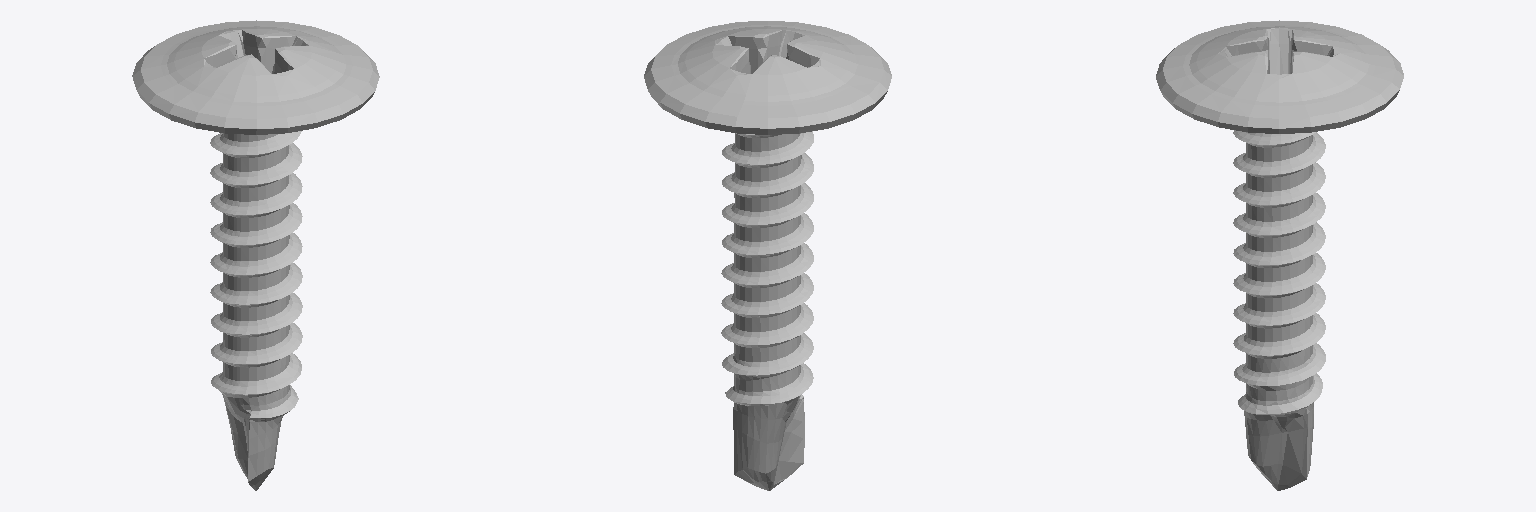
URDF robot description (apple):
<?xml version="1.0" encoding="utf-8"?>
<robot name="apple">
  <link name="base_link">
    <contact>
      <lateral_friction value="0.5"/>
      <rolling_friction value="0.0"/>
      <contact_cfm value="0.0"/>
      <contact_erp value="1.0"/>
    </contact>
    <inertial>
      <origin rpy="0 0 0" xyz="0 0 0"/>
      <mass value=".1"/>
      <inertia ixx="0" ixy="0" ixz="0" iyy="0" iyz="0" izz="0"/>
    </inertial>
    <visual>
      <origin rpy="1.57 0 0" xyz="0 0 0"/>
      <geometry>
        <mesh filename="models/meshes/screw/screw.obj" scale="0.002 0.002 0.002"/>
      </geometry>
      <material name="hi3">
        <color rgba="0.76 0.76 0.76 1"/>
      </material>
    </visual>
    <collision>
      <origin rpy="1.57 0 0" xyz="0 0 0"/>
      <geometry>
        <mesh filename="models/meshes/screw/screw.obj" scale="0.002 0.002 0.002"/>
      </geometry>
    </collision>
  </link>
</robot>

--- Facts derived from the render (not from the file) ---
The picture shows the robot from 3 angles, left to right: view 1: azimuth 30°, elevation 25°; view 2: azimuth 150°, elevation 25°; view 3: azimuth 270°, elevation 25°; orthographic projection.
Robot: apple — 1 links, 0 joints (none); root link base_link; default pose: every joint at zero.
Visible links, largest first — view 1: base_link; view 2: base_link; view 3: base_link.
Boxes of the visible links, x1,y1,x2,y2 form: base_link: (132,20,379,490); base_link: (644,21,891,490); base_link: (1156,20,1403,490).
Bounding box of the posed robot: 0.0475 × 0.0476 × 0.0941 m (x, y, z).
1 mesh visuals loaded from 1 distinct referenced files (1 OBJ).